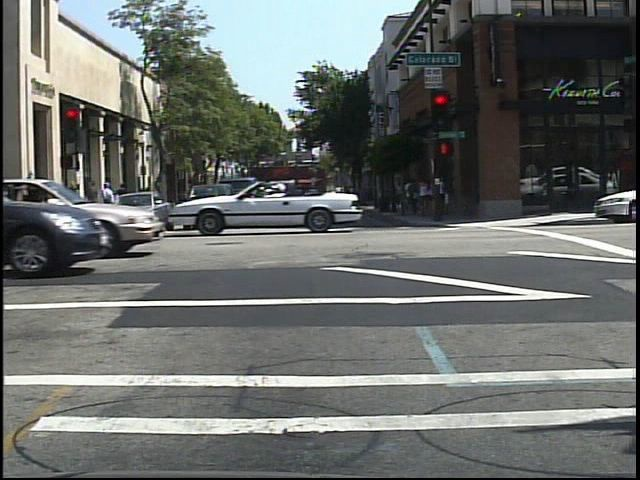person: (98, 179, 117, 225)
